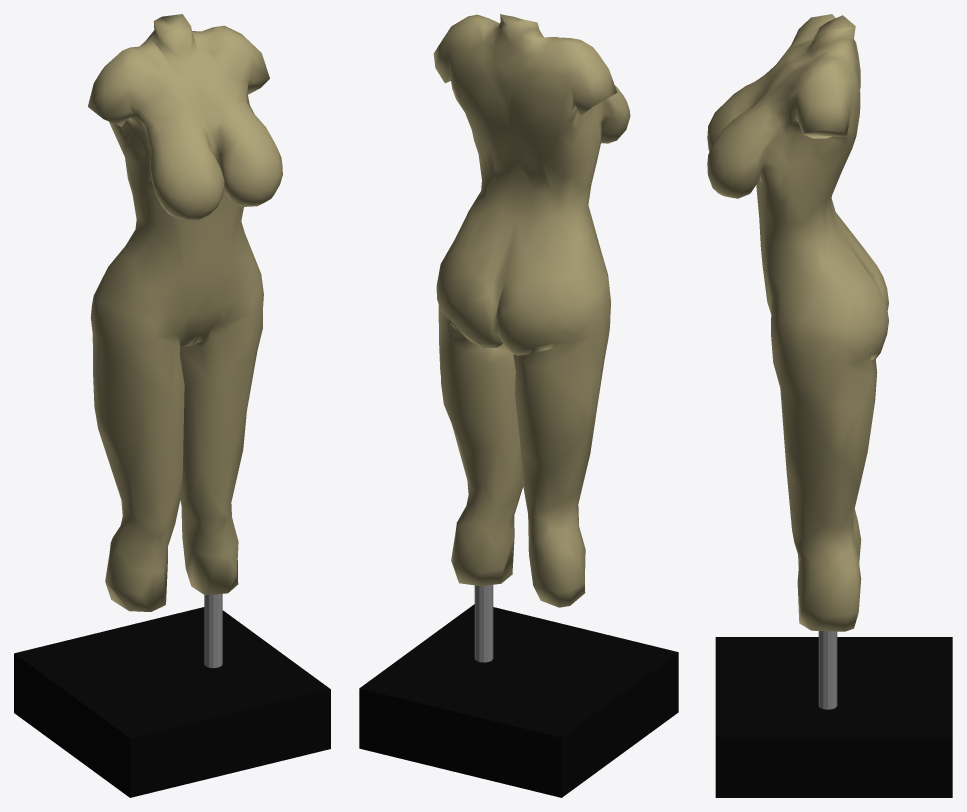
The model's file is maniqui.obj.
3 views of the same model, side by side, from view 1: azimuth 30°, elevation 25°; view 2: azimuth 150°, elevation 25°; view 3: azimuth 270°, elevation 25° (orthographic). The views are drawn at different scales.
Parts seen in each view (by area): view 1: Criss23Nude_mesh_Maniqui; view 2: Criss23Nude_mesh_Maniqui; view 3: Criss23Nude_mesh_Maniqui.
Part boxes in pixels (left/top/right/bottom): Criss23Nude_mesh_Maniqui: left=14, top=14, right=330, bottom=797; Criss23Nude_mesh_Maniqui: left=359, top=14, right=678, bottom=797; Criss23Nude_mesh_Maniqui: left=707, top=14, right=952, bottom=797.
Size of the model in its own units: 1.05 by 3.53 by 1.08.
